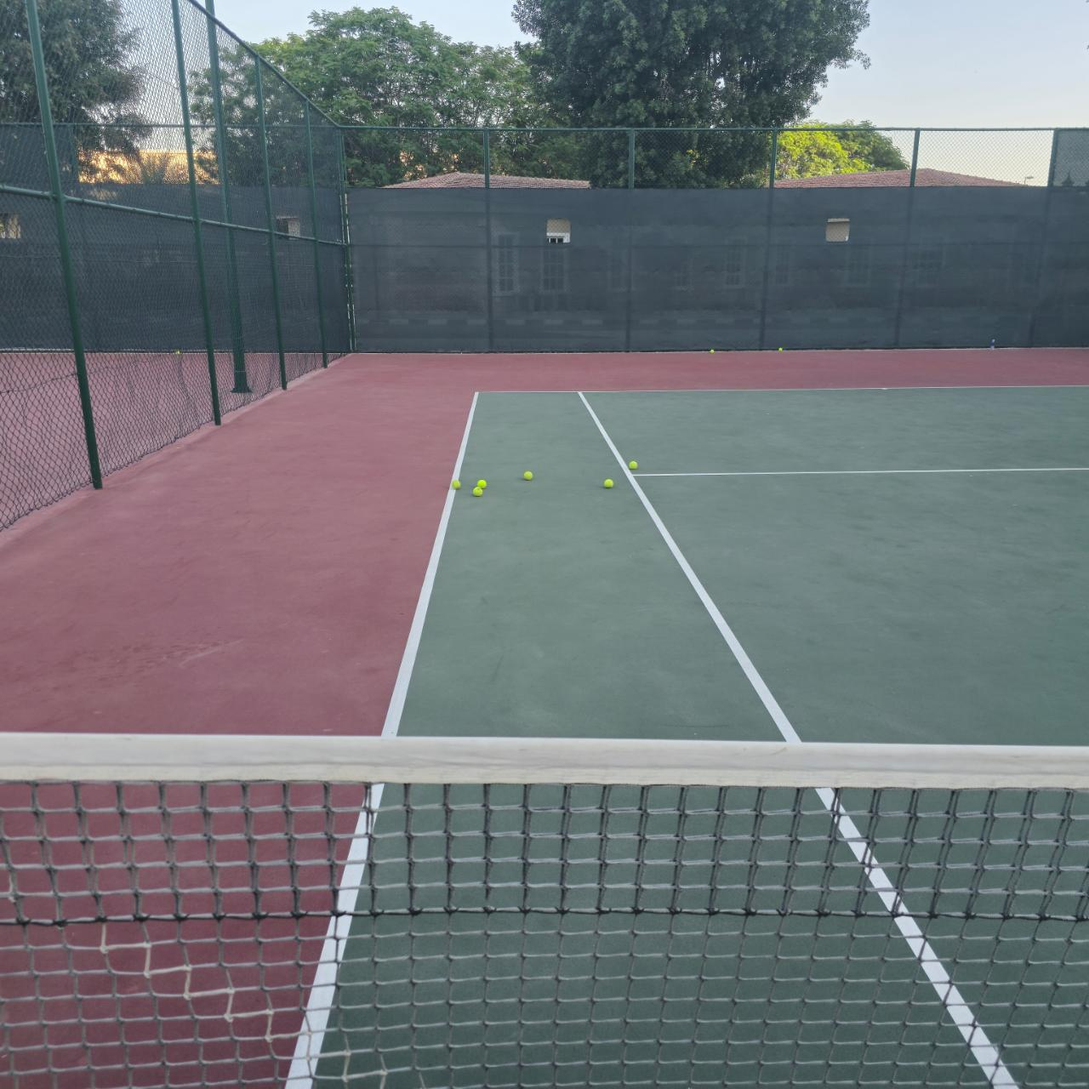tennis-ball: (448, 476, 462, 490), (470, 483, 484, 496), (521, 468, 533, 480), (626, 458, 638, 470), (602, 476, 614, 488), (778, 348, 783, 352), (710, 349, 714, 353)
